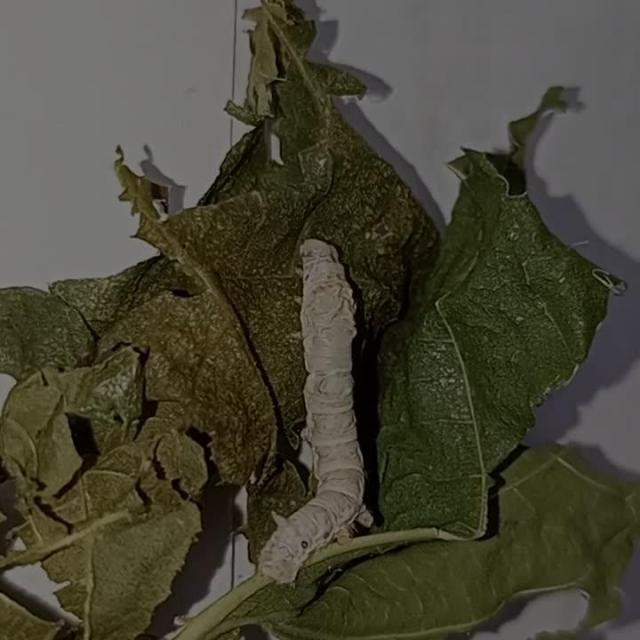Healthy: (188, 206, 440, 615)
